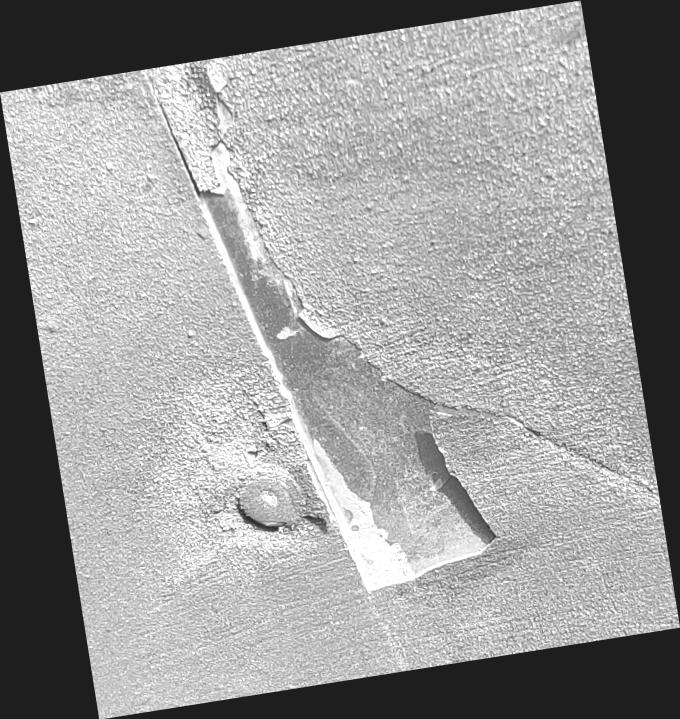paint-off: (0, 1, 679, 719)
